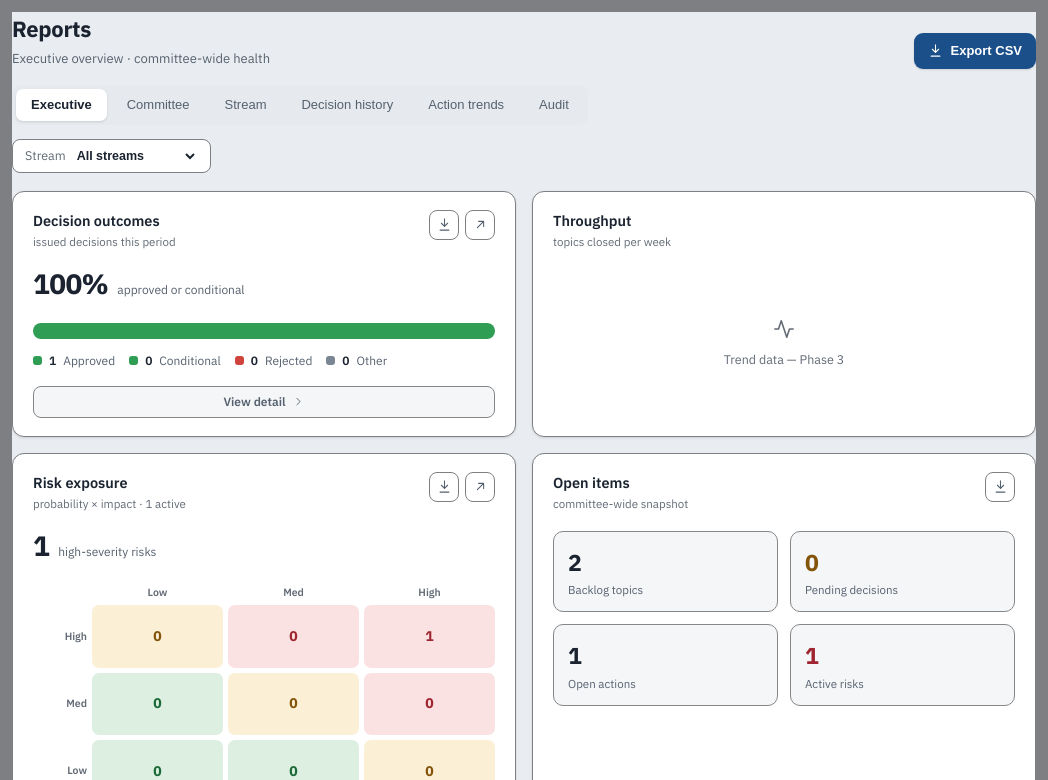
Test: ReportsPage (P12-PR3 shell) › switches views and shows that view’s cards (aging columns are REAL)
Click the tab "Committee".
click(158, 104)  # box [112,88,205,120]
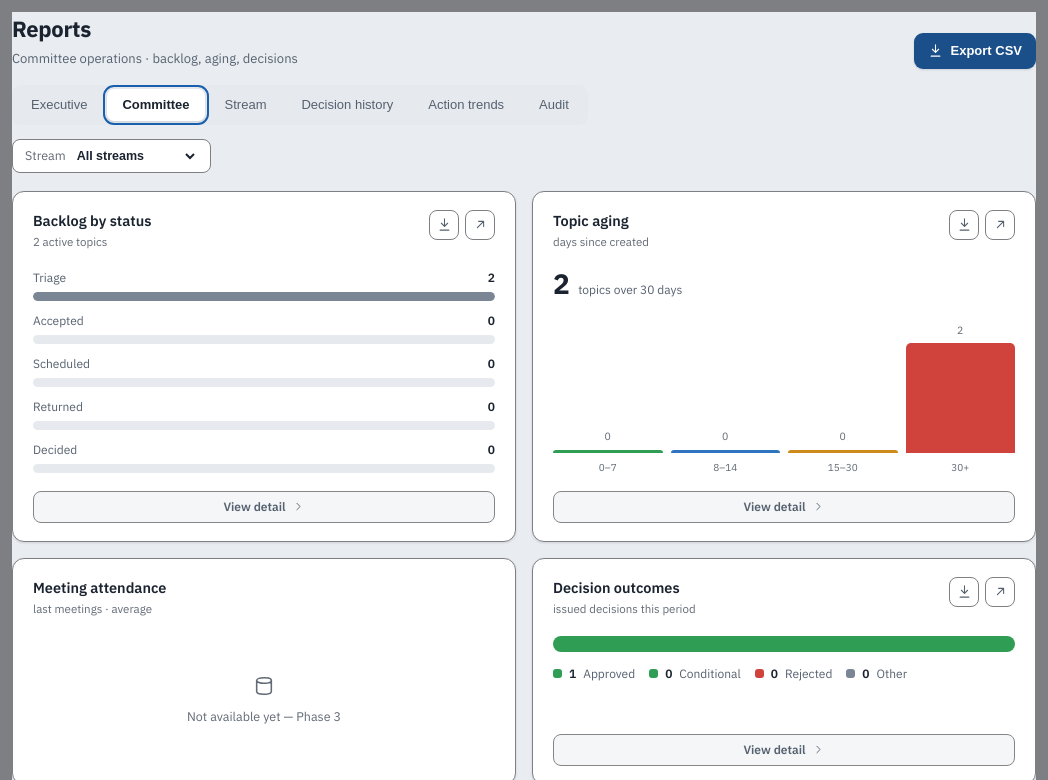
Check: the heading "Topic aging" is shown, box [553,210,629,230]
Check: the heading "Backlog by status" is shown, box [33,210,151,231]
Check: the text "Not available yet — Phase 3" is shown, box [187,707,341,726]
